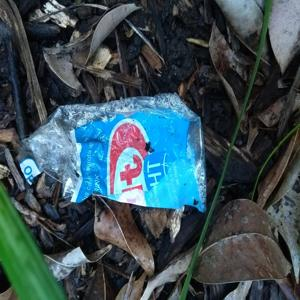plastic: (23, 94, 217, 215)
